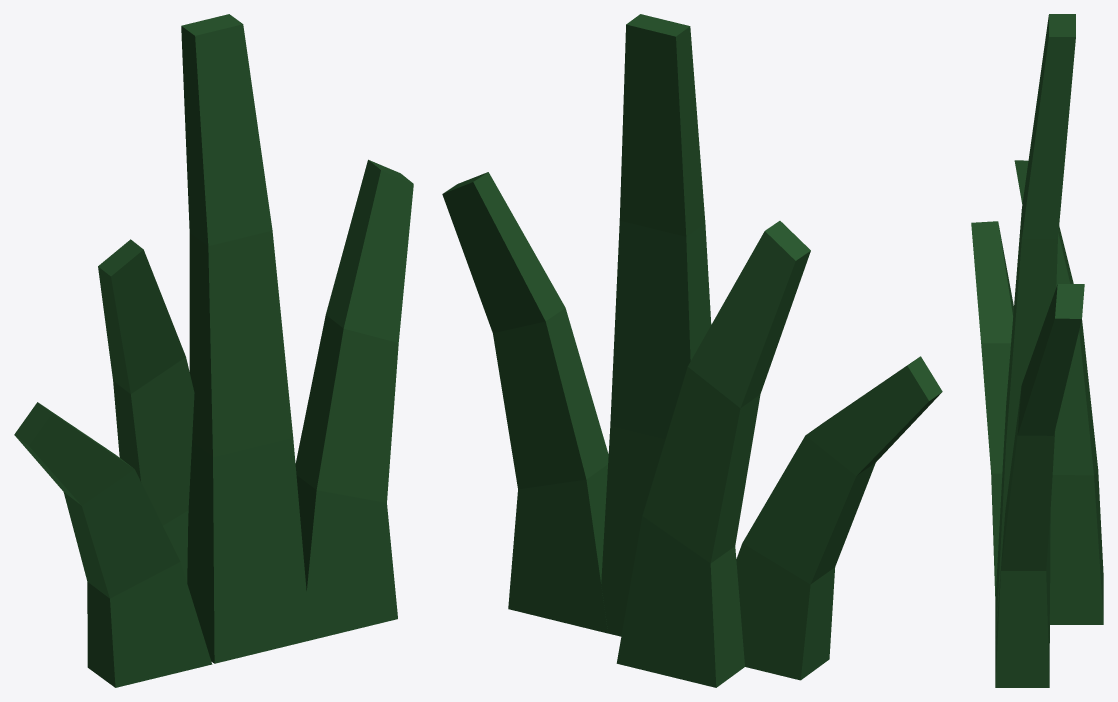
Rendered from grass_clump_md.glb.
3 renders of one model, left to right at view 1: azimuth 30°, elevation 25°; view 2: azimuth 150°, elevation 25°; view 3: azimuth 270°, elevation 25°, orthographic. The views are drawn at different scales.
Visible parts, largest first — view 1: grassblade.001, grassblade.002, grassblade.003, grassblade.004; view 2: grassblade.004, grassblade.001, grassblade.002, grassblade.003; view 3: grassblade.002, grassblade.001, grassblade.004, grassblade.003.
Boxes of the visible parts, left/top/right/bottom form: grassblade.001: left=181, top=14, right=310, bottom=663; grassblade.002: left=295, top=159, right=413, bottom=640; grassblade.003: left=14, top=402, right=212, bottom=687; grassblade.004: left=98, top=239, right=194, bottom=582; grassblade.004: left=616, top=221, right=810, bottom=687; grassblade.001: left=599, top=14, right=711, bottom=636; grassblade.002: left=442, top=172, right=608, bottom=633; grassblade.003: left=736, top=356, right=942, bottom=680; grassblade.002: left=995, top=284, right=1084, bottom=687; grassblade.001: left=995, top=14, right=1075, bottom=645; grassblade.004: left=1014, top=160, right=1103, bottom=624; grassblade.003: left=971, top=221, right=1013, bottom=599.
Bounding box in the file's own units: 0.445 × 0.6011 × 0.1224.
